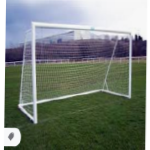goals: (17, 20, 133, 118)
